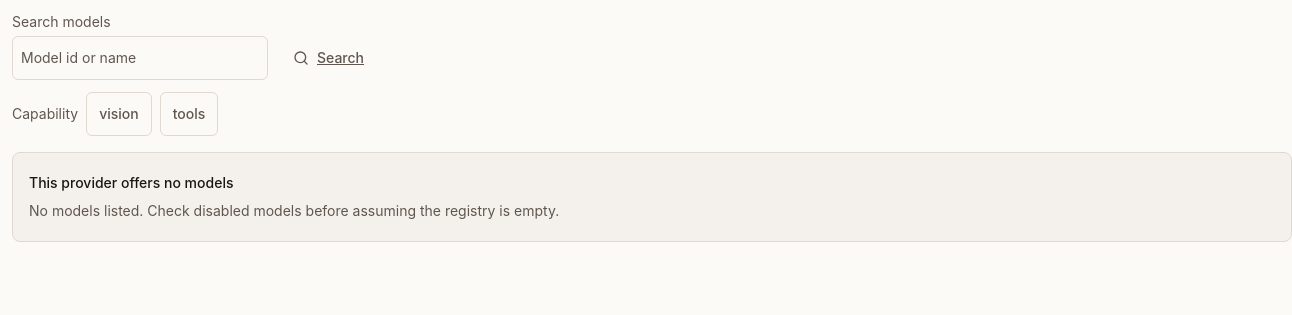
Test: ModelCatalogList › names the filter, not the provider, once a filter is applied
The image size is (1292, 315).
Check: the text "This provider offers no models" is shown, box left=29, top=173, right=234, bottom=193
In the search field labelled "Search models": {"x": 140, "y": 58} left=12, top=36, right=268, bottom=80, type "does-not-exist"
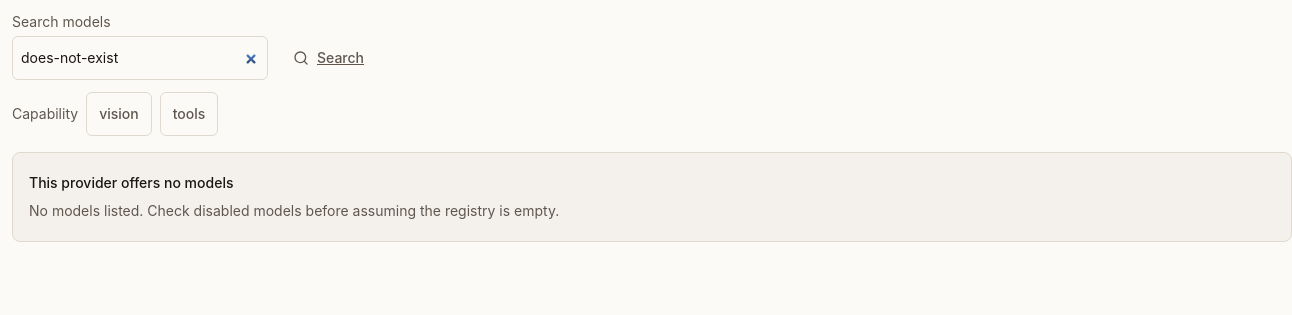
Submit the form, box left=12, top=13, right=377, bottom=80
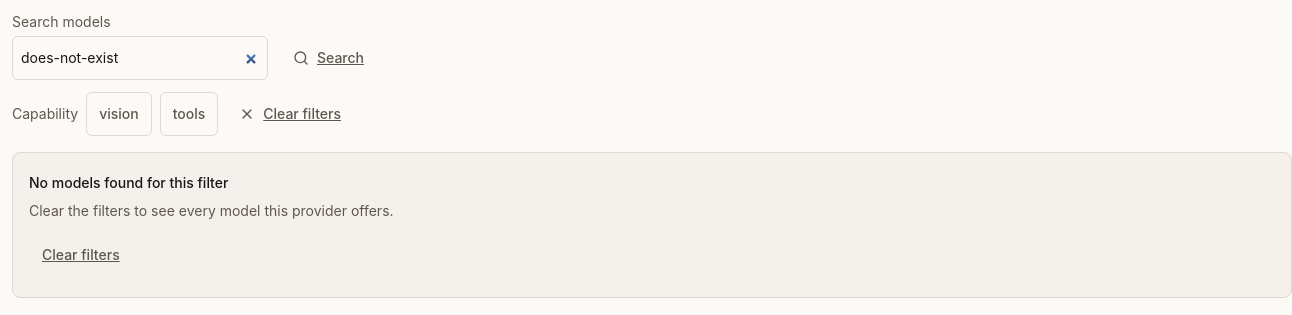
Check: the text "No models found for this filter" is shown, box left=29, top=173, right=228, bottom=193
Check: the text "This provider offers no models" is gone
